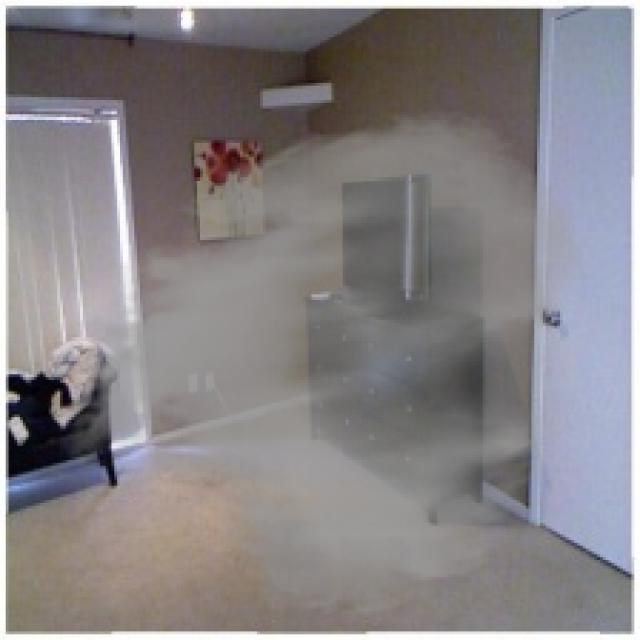Smoke: (57, 105, 589, 620)
